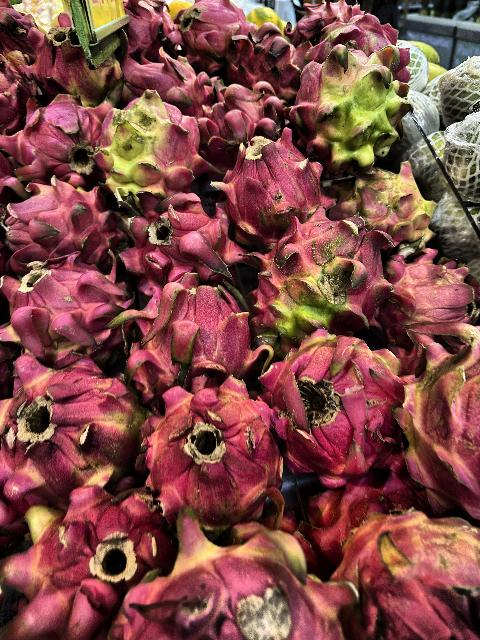buah-naga-belum-matang: (128, 510, 362, 640), (0, 494, 172, 640), (247, 205, 400, 348), (330, 496, 480, 640), (0, 354, 148, 498), (264, 327, 402, 475), (402, 318, 480, 520), (87, 94, 208, 198), (296, 53, 408, 165), (330, 169, 446, 253), (378, 252, 480, 346), (22, 15, 126, 100), (302, 9, 404, 65)
buah-naga-matang: (136, 386, 287, 522), (118, 274, 268, 402), (0, 246, 138, 362), (210, 126, 338, 240), (117, 186, 252, 292), (0, 173, 116, 264), (2, 94, 104, 188), (188, 74, 286, 158), (225, 20, 305, 99), (174, 1, 246, 74)
